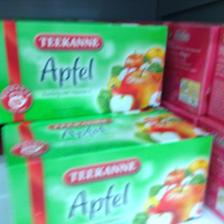Tee: (0, 109, 214, 224), (0, 18, 168, 122)
